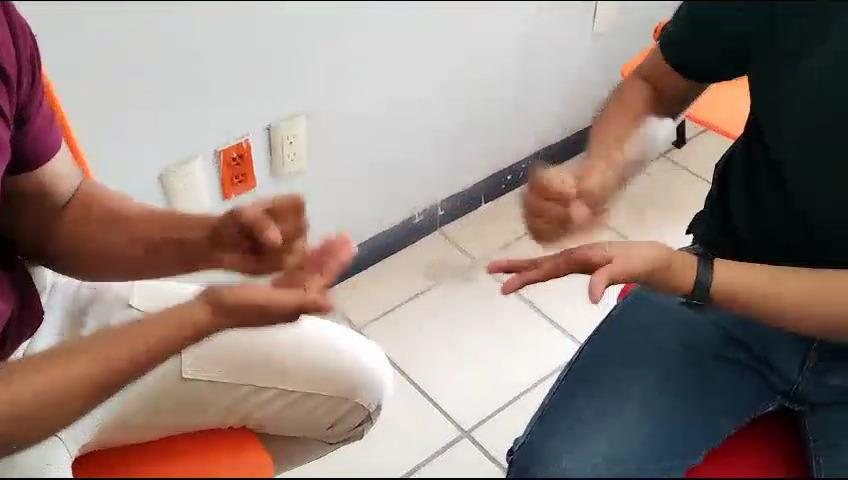Stone: (505, 145, 645, 253), (213, 174, 332, 290)
